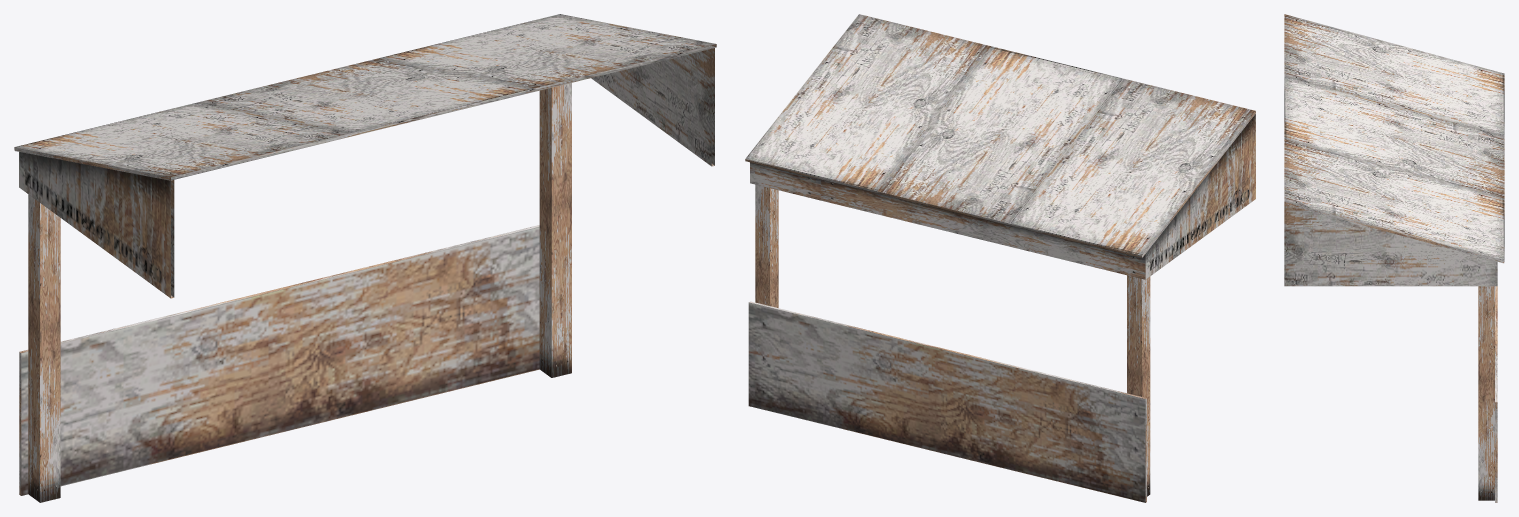
Rendered from construcion_walkway_wood.fbx.
3 views of the same model, side by side, from view 1: azimuth 30°, elevation 25°; view 2: azimuth 150°, elevation 25°; view 3: azimuth 270°, elevation 25° (orthographic). The views are drawn at different scales.
Visible parts, largest first — view 1: mesh_0; view 2: mesh_0; view 3: mesh_0.
Part boxes in pixels (bbox=[...]): mesh_0: bbox=[14, 14, 716, 502]; mesh_0: bbox=[745, 14, 1255, 502]; mesh_0: bbox=[1284, 14, 1504, 502].
Size of the model in its own units: 400 by 300 by 199.
1 material, 1 textured.
